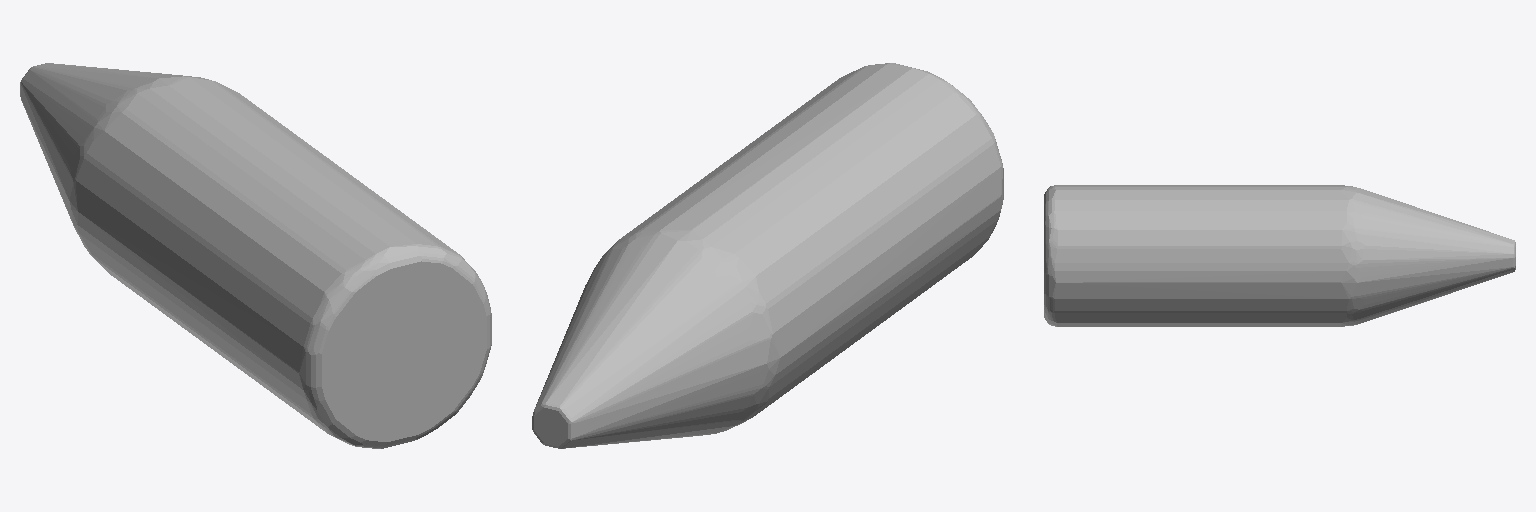
robot.urdf — root:
<robot name="root">
  <link name="link_coacd_convex_piece_0">
    <inertial>
      <origin xyz="0 0 0" rpy="0 0 0"/>
      <inertia ixx="6.82E-02" ixy="-4.45E-06" ixz="-1.62E-06" iyy="1.25E-02" iyz="-3.43E-06" izz="6.82E-02"/>
    </inertial>
    <visual>
      <origin xyz="0 0 0" rpy="0 0 0"/>
      <geometry>
        <mesh filename="coacd_convex_piece_0.obj" scale="1.0000E+00 1.0000E+00 1.0000E+00"/>
      </geometry>
      <material name="">
        <color rgba="7.50E-01 7.50E-01 7.50E-01 1"/>
      </material>
    </visual>
    <collision>
      <origin xyz="0 0 0" rpy="0 0 0"/>
      <geometry>
        <mesh filename="coacd_convex_piece_0.obj" scale="1.0000E+00 1.0000E+00 1.0000E+00"/>
      </geometry>
    </collision>
  </link>
</robot>

--- What the picture shows (computed from the rendered views, not written in the file) ---
Views: 3 orthographic renders of the robot side by side, from view 1: azimuth 30°, elevation 25°; view 2: azimuth 150°, elevation 25°; view 3: azimuth 270°, elevation 25°.
Model root with 1 links and 0 joints (none), rooted at link_coacd_convex_piece_0, posed every joint at zero.
Visible links, largest first — view 1: link_coacd_convex_piece_0; view 2: link_coacd_convex_piece_0; view 3: link_coacd_convex_piece_0.
Boxes of the visible links, box(x1,y1,x2,y2) form: link_coacd_convex_piece_0: box(20, 63, 491, 448); link_coacd_convex_piece_0: box(532, 63, 1003, 448); link_coacd_convex_piece_0: box(1044, 185, 1515, 326).
Size in the robot's own frame: 0.5711 by 1.89 by 0.5711 metres.
Meshes: 1 distinct files referenced, 1 mesh visuals loaded (1 OBJ).
